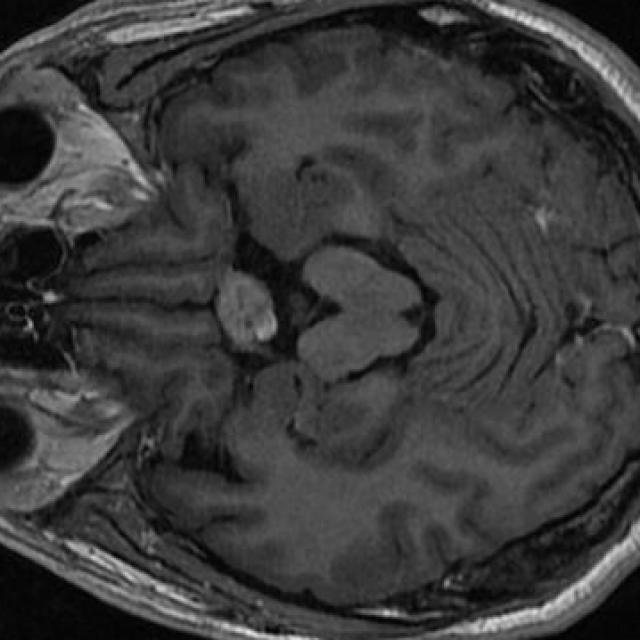pituitary: (214, 271, 278, 344)
